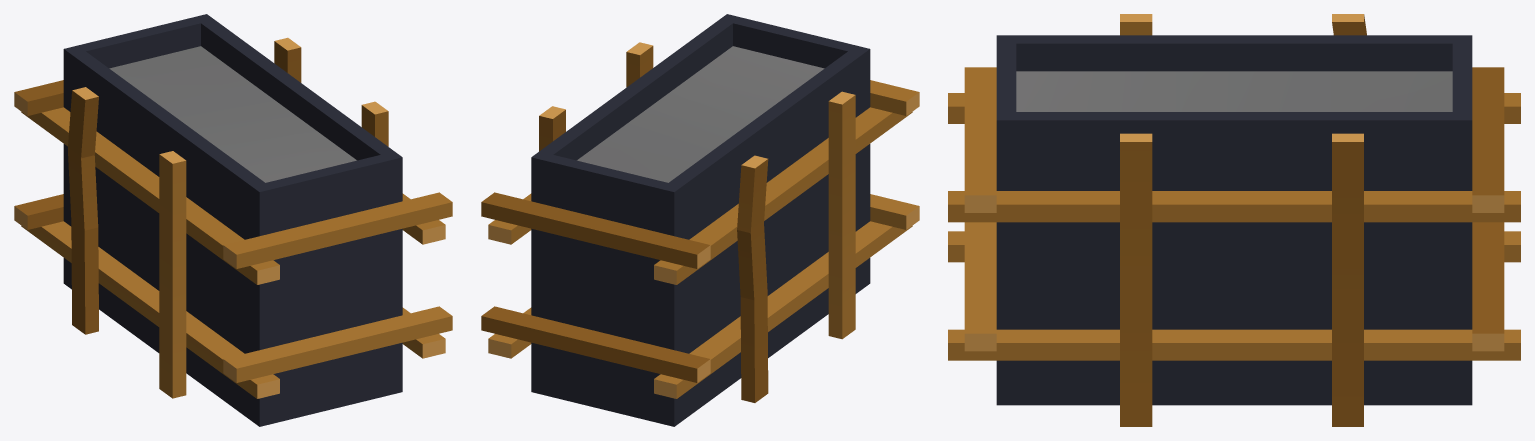
The model's file is ConcrateFrame_2_2.obj.
3 renders of one model, left to right at view 1: azimuth 30°, elevation 25°; view 2: azimuth 150°, elevation 25°; view 3: azimuth 270°, elevation 25°, orthographic. The views are drawn at different scales.
Visible parts, largest first — view 1: ConcrateFrame_2_2; view 2: ConcrateFrame_2_2; view 3: ConcrateFrame_2_2.
Boxes of the visible parts, x1=… form: ConcrateFrame_2_2: x1=14, y1=14, x2=452, y2=426; ConcrateFrame_2_2: x1=481, y1=14, x2=919, y2=426; ConcrateFrame_2_2: x1=948, y1=14, x2=1520, y2=426.
Size of the model in its own units: 1.39 by 1.44 by 2.63.
